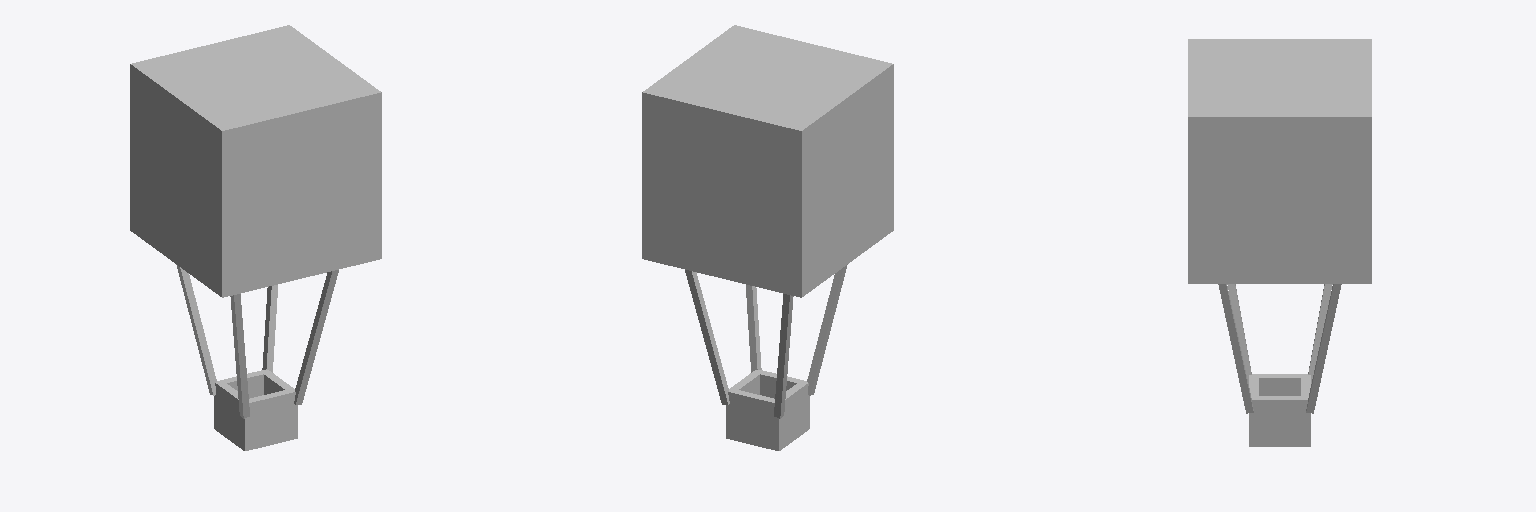
Rendered from hot_air_balloons_balloon.obj.
The picture shows the model from 3 angles: view 1: azimuth 30°, elevation 25°; view 2: azimuth 150°, elevation 25°; view 3: azimuth 270°, elevation 25°; orthographic projection.
Visible parts, largest first — view 1: Cube.001; view 2: Cube.001; view 3: Cube.001.
Boxes of the visible parts, x1=… form: Cube.001: x1=130, y1=25, x2=381, y2=450; Cube.001: x1=642, y1=25, x2=893, y2=450; Cube.001: x1=1188, y1=39, x2=1371, y2=446.
Bounding box in the file's own units: 39 × 83.2 × 39.